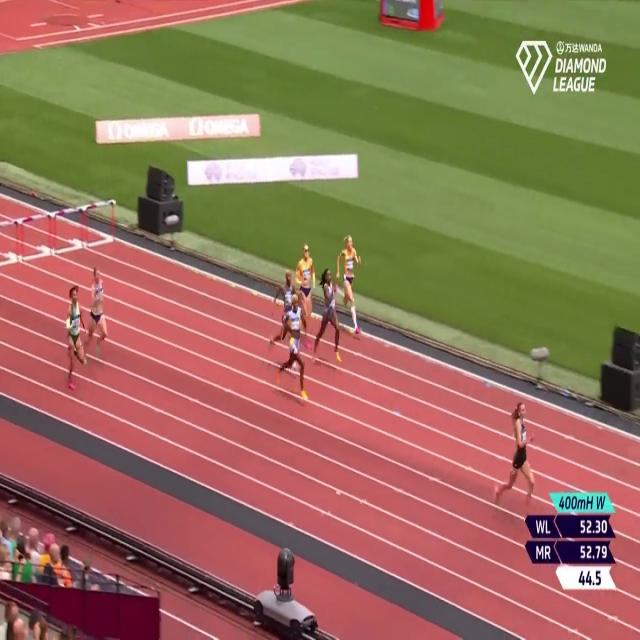athlete: (491, 388, 537, 530), (335, 229, 367, 359), (269, 254, 297, 378), (319, 262, 343, 387), (296, 238, 320, 363), (280, 294, 307, 402), (62, 276, 84, 395), (90, 256, 109, 371)
hurdle: (50, 200, 84, 258), (21, 205, 50, 265), (87, 193, 115, 248), (0, 213, 18, 270)
